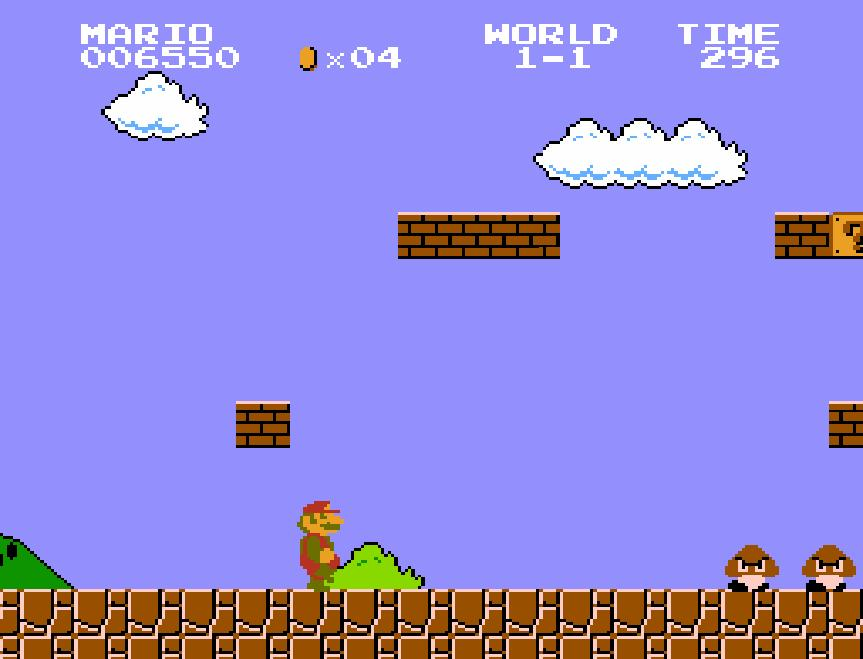big_mario: (291, 496, 349, 594)
